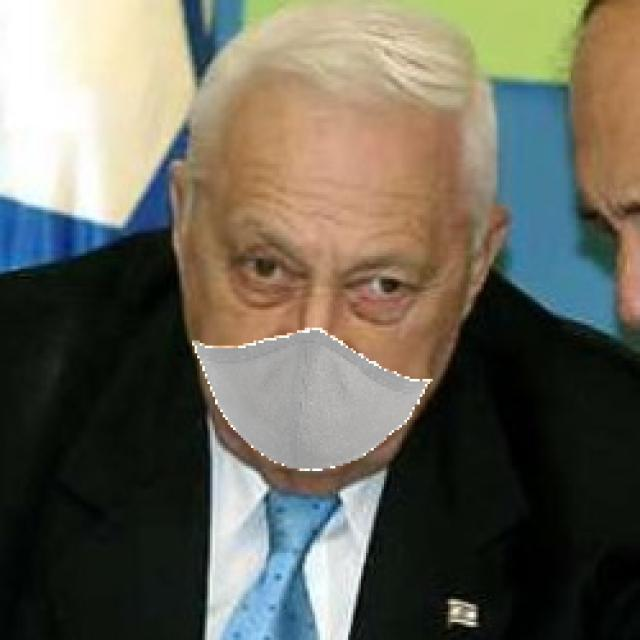cloth: (184, 108, 457, 473)
